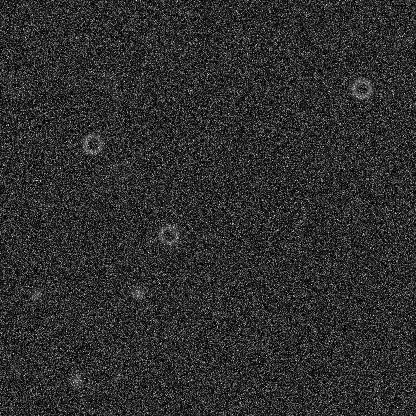Ring: (156, 222, 180, 246), (109, 158, 133, 182), (96, 69, 120, 93), (4, 73, 28, 97), (80, 131, 104, 155), (349, 76, 373, 100)
Spot: (37, 196, 53, 212), (68, 372, 84, 388), (130, 285, 146, 301), (27, 286, 43, 302)
